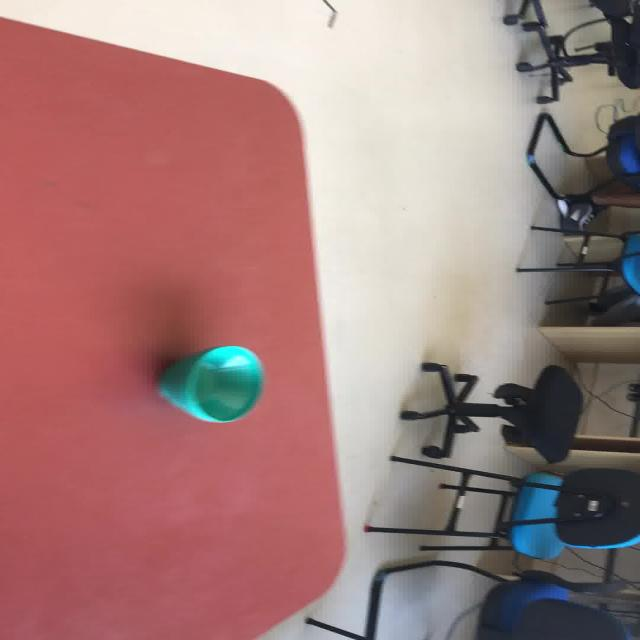bowl: (156, 344, 264, 423)
